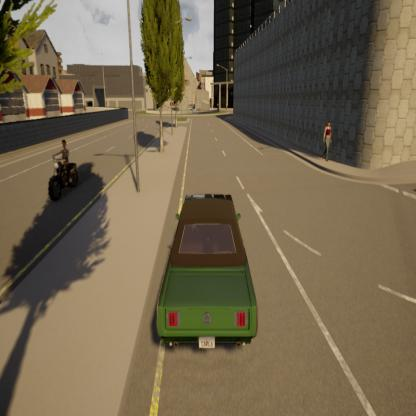Cars: (150, 186, 271, 368)
Pedestrian: (320, 120, 336, 165)
